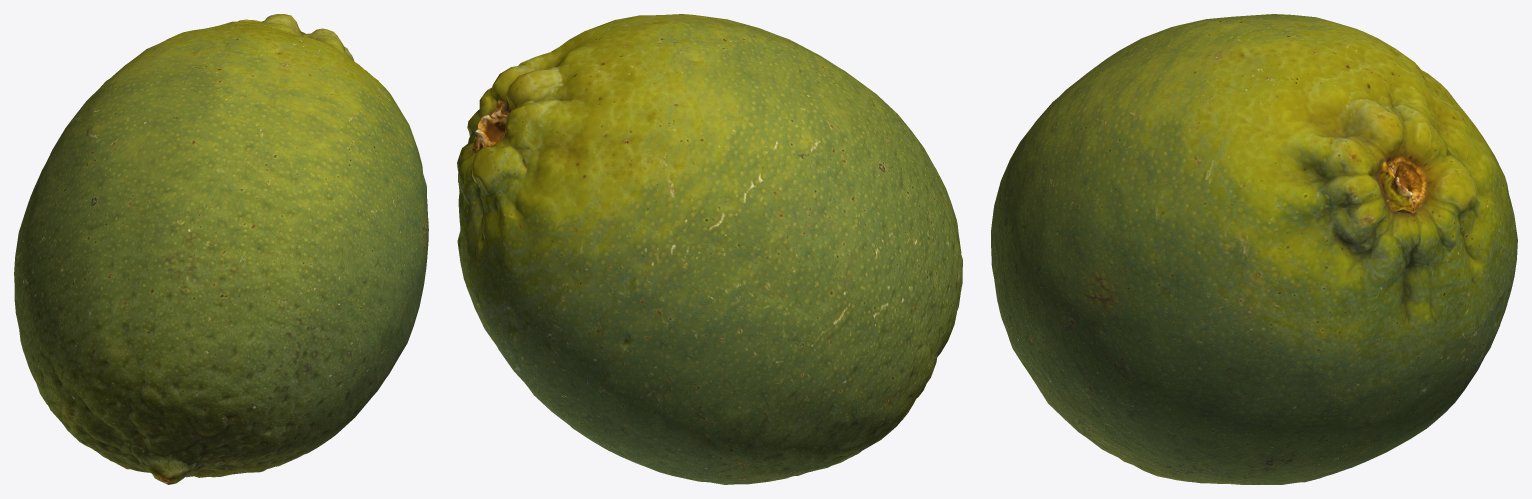
Rendered from lime.obj.
3 renders of one model, left to right at view 1: azimuth 30°, elevation 25°; view 2: azimuth 150°, elevation 25°; view 3: azimuth 270°, elevation 25°, orthographic. The views are drawn at different scales.
Visible parts, largest first — view 1: food_lime_01_lime_50k_uv.001; view 2: food_lime_01_lime_50k_uv.001; view 3: food_lime_01_lime_50k_uv.001.
Boxes of the visible parts, box(x1,y1,x2,y2) form: food_lime_01_lime_50k_uv.001: box(14, 14, 428, 484); food_lime_01_lime_50k_uv.001: box(457, 14, 962, 484); food_lime_01_lime_50k_uv.001: box(991, 14, 1517, 484).
Bounding box in the file's own units: 0.1466 × 0.1439 × 0.1496.
1 material, 1 textured.
